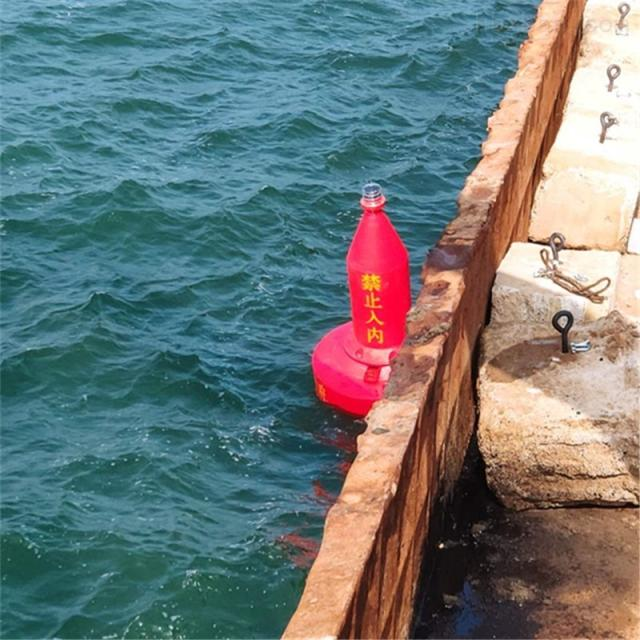buoy: (309, 172, 424, 417)
